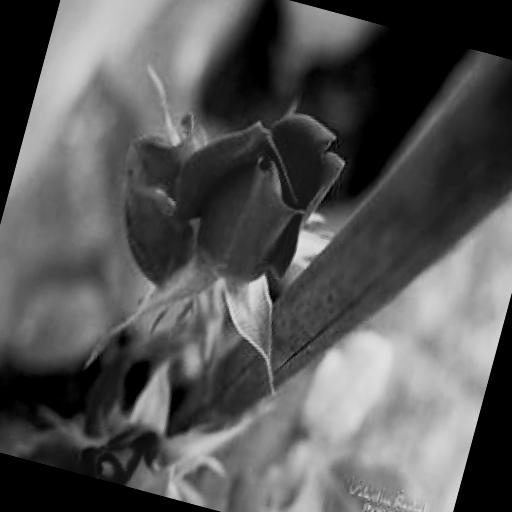rose: (102, 74, 352, 317)
